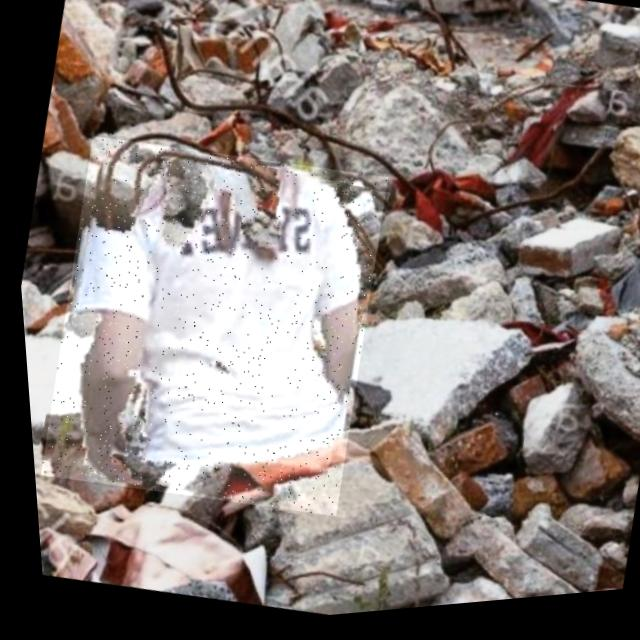Person in Rubble: (13, 117, 403, 542)
